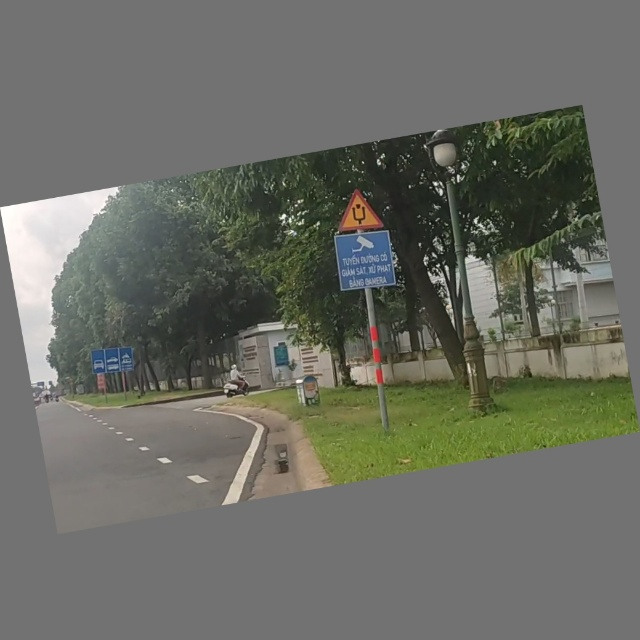R.415a: (88, 343, 136, 380)
W.246a: (329, 183, 386, 237)
